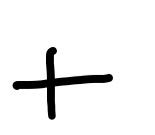plus: (13, 47, 113, 119)
